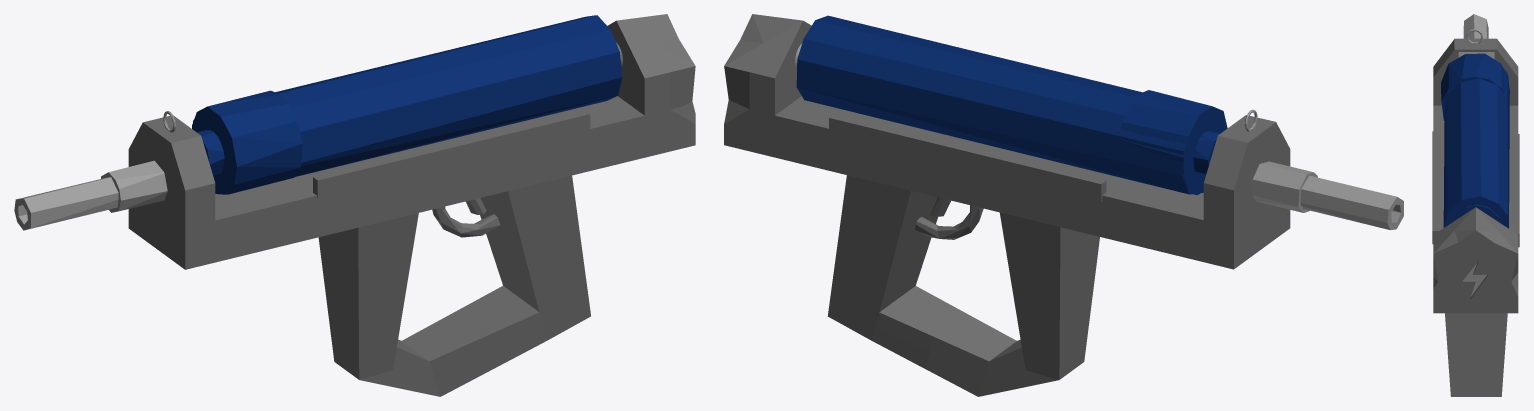
The model's file is gun_blue.fbx.
The picture shows the model from 3 angles, left to right: view 1: azimuth 30°, elevation 25°; view 2: azimuth 150°, elevation 25°; view 3: azimuth 270°, elevation 25°; orthographic projection. The views are drawn at different scales.
Parts seen in each view (by area): view 1: Cube, Pila, Cube.004, Cylinder.001, Cylinder.002, Torus.001; view 2: Cube, Pila, Cube.004, Cylinder.001, Cylinder.002, Torus.001; view 3: Cube, Pila, Cube.004, Cylinder.001, Cube.001, Torus.
Boxes of the visible parts, bbox=[...] form: Cube: bbox=[128, 14, 695, 269]; Pila: bbox=[192, 15, 622, 194]; Cube.004: bbox=[318, 175, 590, 396]; Cylinder.001: bbox=[14, 177, 118, 230]; Cylinder.002: bbox=[101, 160, 167, 212]; Torus.001: bbox=[432, 206, 500, 237]; Cube: bbox=[724, 14, 1290, 269]; Pila: bbox=[796, 15, 1227, 194]; Cube.004: bbox=[827, 175, 1099, 396]; Cylinder.001: bbox=[1300, 175, 1403, 230]; Cylinder.002: bbox=[1252, 161, 1317, 212]; Torus.001: bbox=[915, 205, 983, 239]; Cube: bbox=[1432, 38, 1519, 313]; Pila: bbox=[1441, 53, 1509, 228]; Cube.004: bbox=[1445, 313, 1507, 396]; Cylinder.001: bbox=[1463, 14, 1488, 38]; Cube.001: bbox=[1458, 52, 1494, 59]; Torus: bbox=[1466, 29, 1482, 43].
Bounding box in the file's own units: 135 × 67.78 × 21.1.
